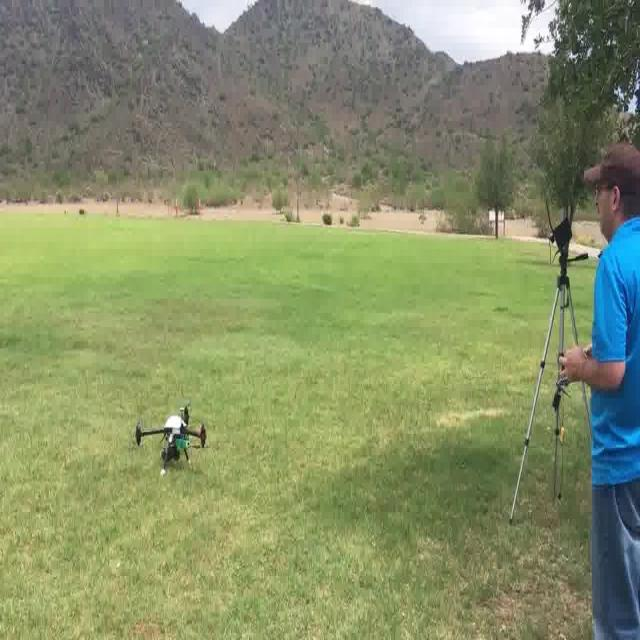drone: (133, 400, 210, 478)
